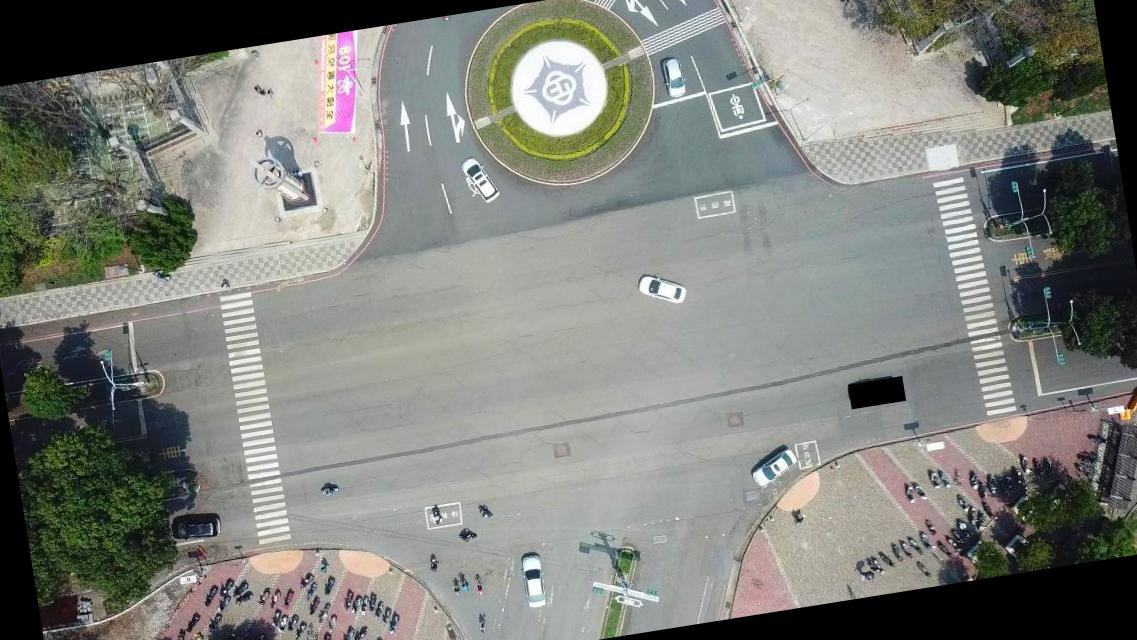vehicle: (458, 152, 504, 208), (747, 446, 800, 489), (634, 268, 688, 310), (169, 510, 224, 545), (519, 550, 549, 609), (658, 53, 690, 100)
